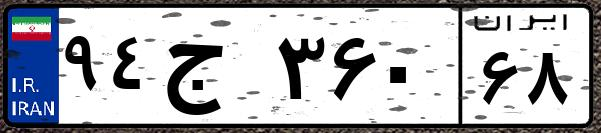0: (385, 28, 445, 110)
3: (270, 28, 330, 110)
4: (110, 28, 158, 98)
6: (330, 28, 385, 110), (475, 38, 525, 113)
8: (525, 38, 570, 115)
9: (57, 26, 110, 100)
ج: (158, 20, 270, 120)
